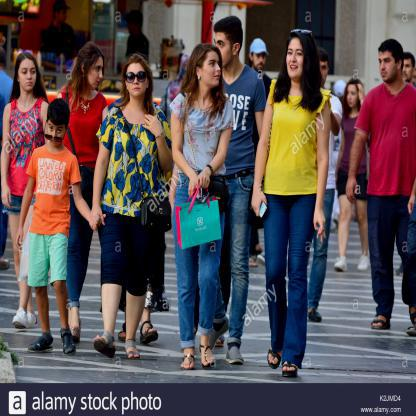person: (262, 27, 334, 377), (90, 53, 170, 357), (166, 43, 233, 369), (363, 36, 415, 332), (28, 98, 80, 352), (213, 19, 263, 179), (0, 51, 49, 210), (62, 42, 111, 158), (338, 76, 367, 272)
